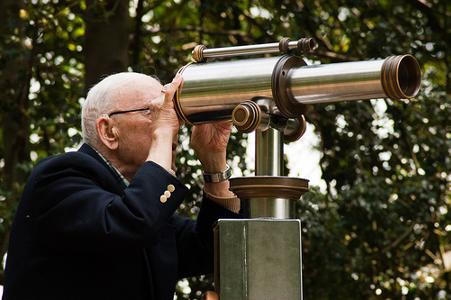person: (5, 68, 241, 300)
